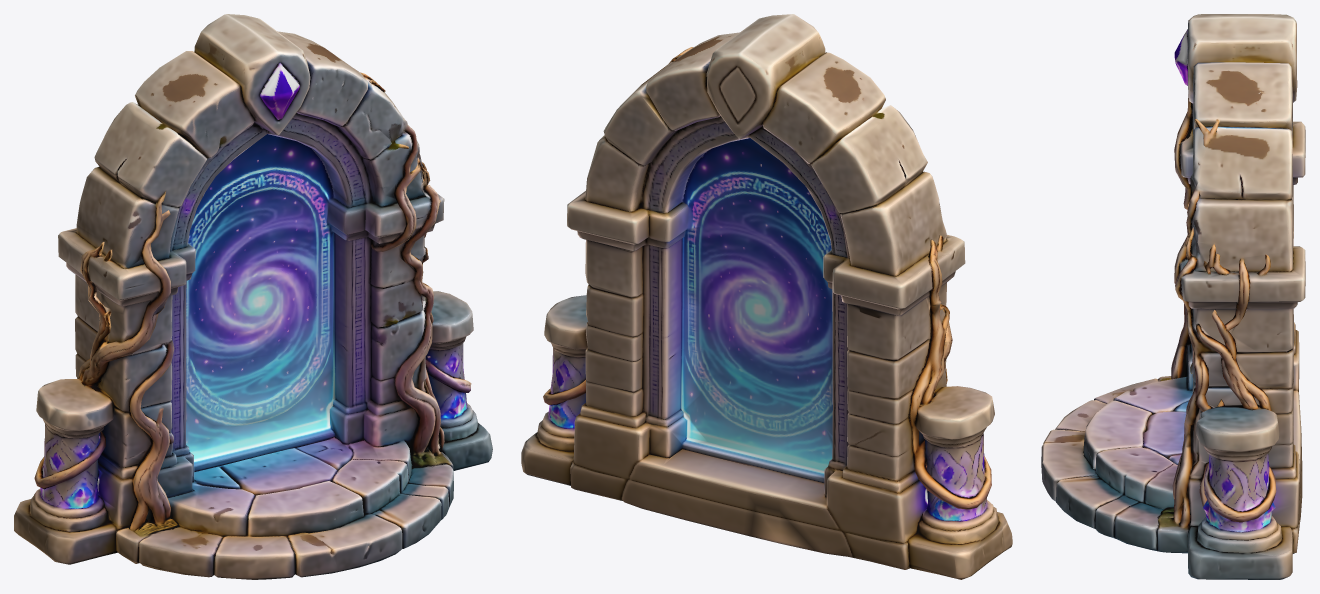
3 views of the same model, side by side, from view 1: azimuth 30°, elevation 25°; view 2: azimuth 150°, elevation 25°; view 3: azimuth 270°, elevation 25° (orthographic). The views are drawn at different scales.
Visible parts, largest first — view 1: model; view 2: model; view 3: model.
Part boxes in pixels (left/top/right/bottom): model: left=14, top=14, right=492, bottom=579; model: left=521, top=14, right=1012, bottom=579; model: left=1041, top=14, right=1305, bottom=579.
Bounding box in the file's own units: 5.89 × 6 × 3.13.
Materials: 1 (1 with a texture image).
